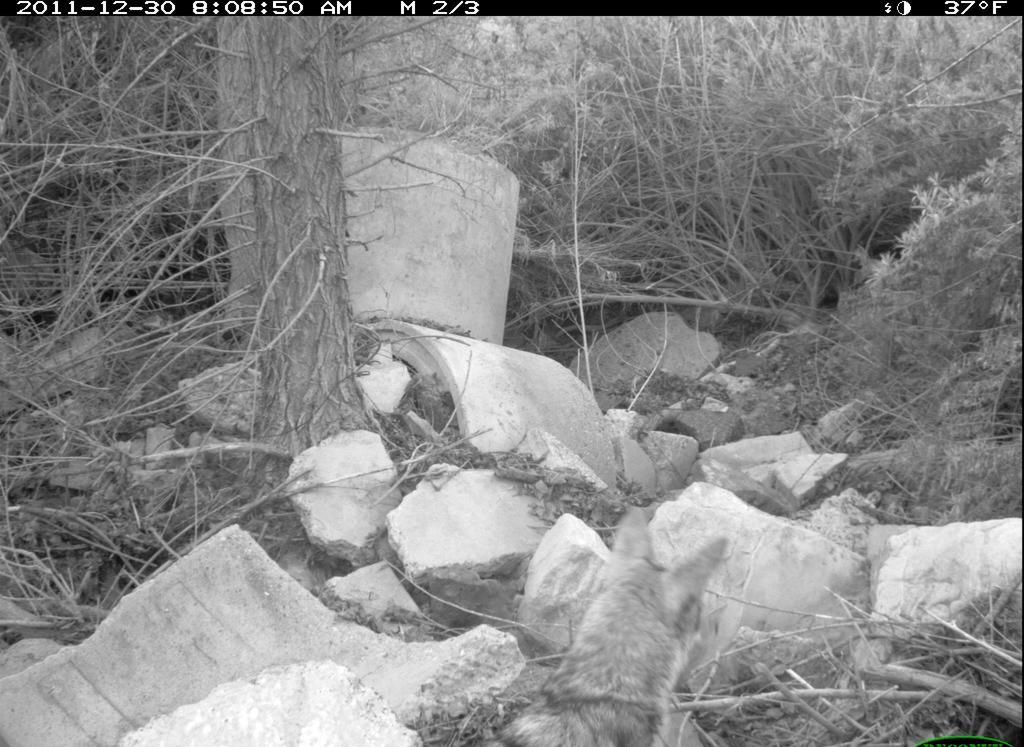coyote: (482, 505, 753, 744)
